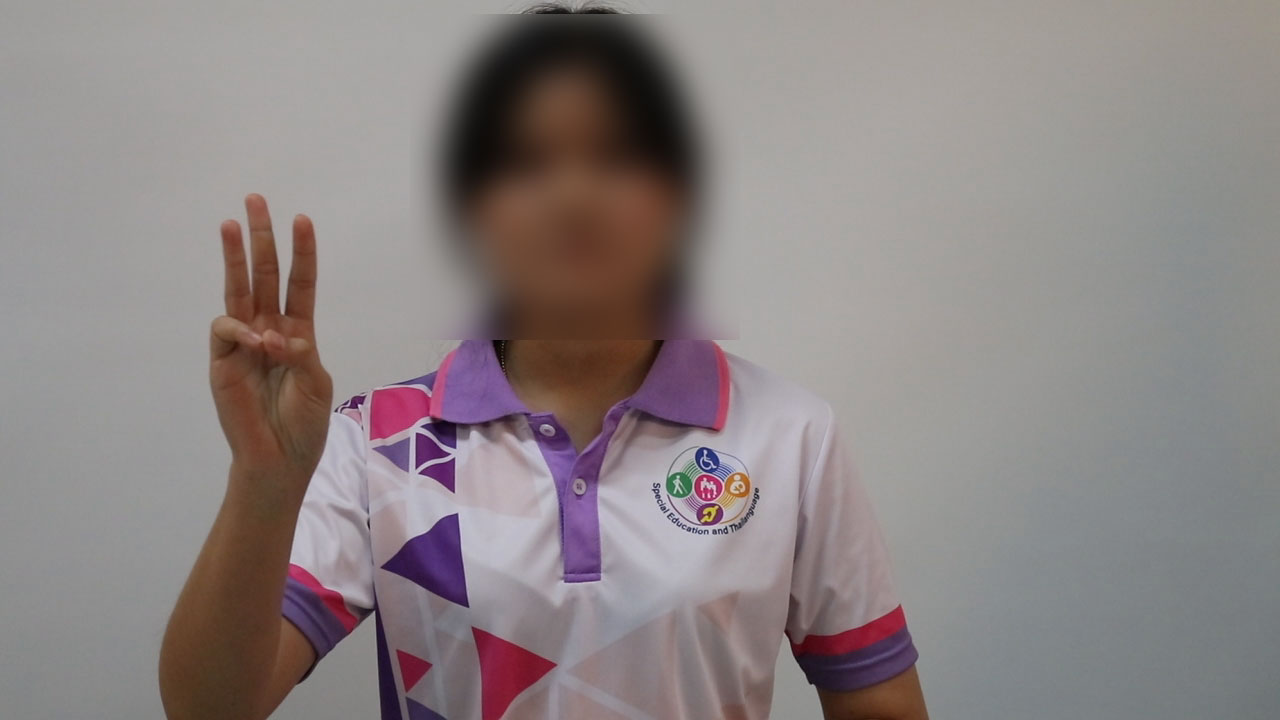wor: (200, 183, 357, 508)
